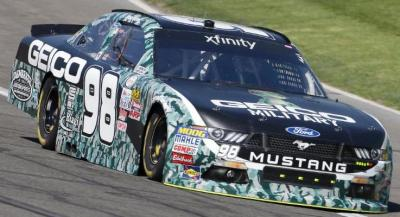Geico: (25, 34, 87, 83)
